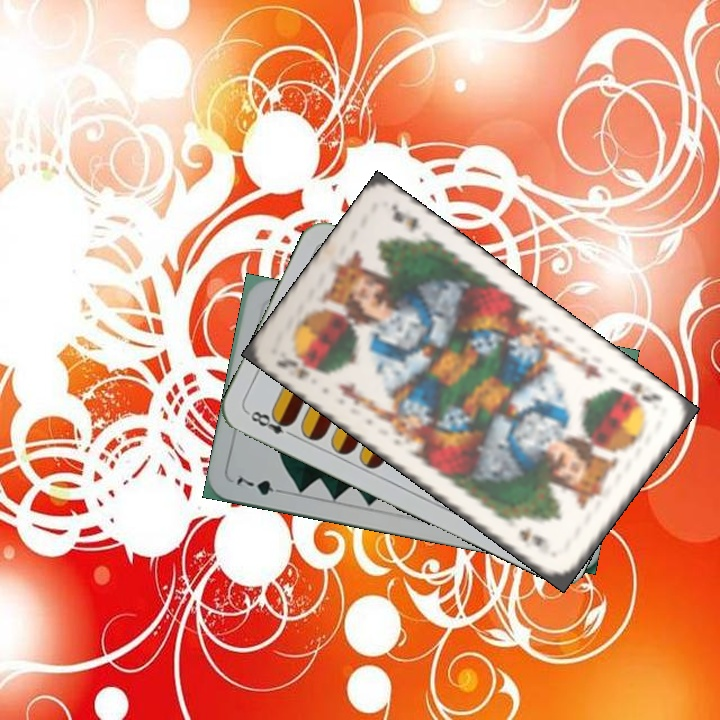E8: (244, 407, 299, 441)
G7: (232, 473, 289, 498)
SK: (612, 378, 666, 410), (272, 351, 323, 383)
